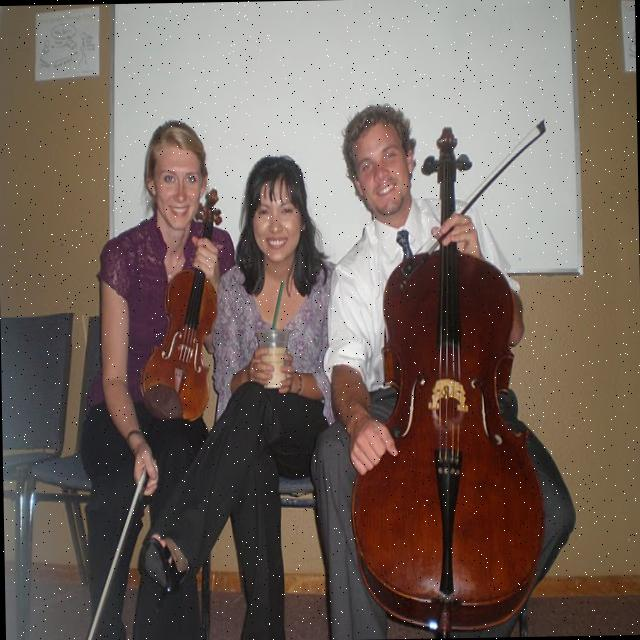cello: (343, 123, 550, 632)
violin: (133, 187, 224, 428)
